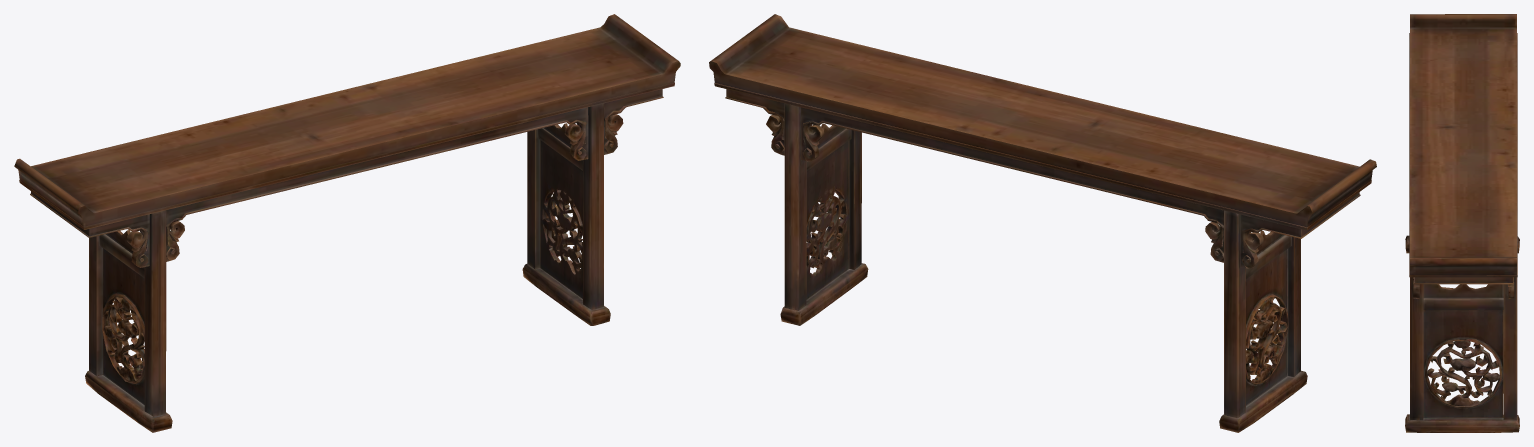
The model's file is chinese_console_table.glb.
The picture shows the model from 3 angles, left to right: view 1: azimuth 30°, elevation 25°; view 2: azimuth 150°, elevation 25°; view 3: azimuth 270°, elevation 25°; orthographic projection. The views are drawn at different scales.
Parts seen in each view (by area): view 1: chinese_console_table; view 2: chinese_console_table; view 3: chinese_console_table.
Part boxes in pixels (x1,y1,x2,y2): chinese_console_table: (14,14,680,432); chinese_console_table: (709,14,1376,432); chinese_console_table: (1405,14,1519,432).
Bounding box in the file's own units: 1.72 × 0.6602 × 0.338.
Materials: 1 (1 with a texture image).
